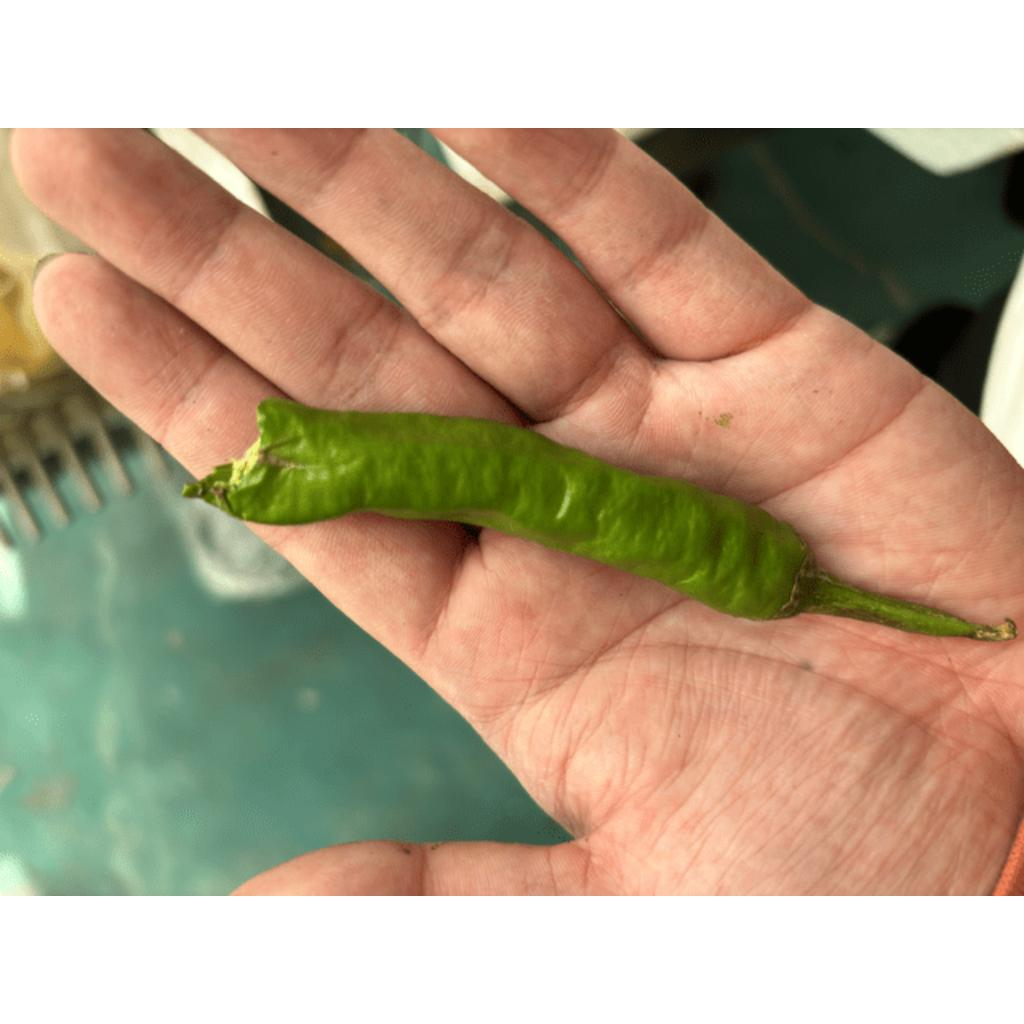chili: (176, 394, 821, 623)
